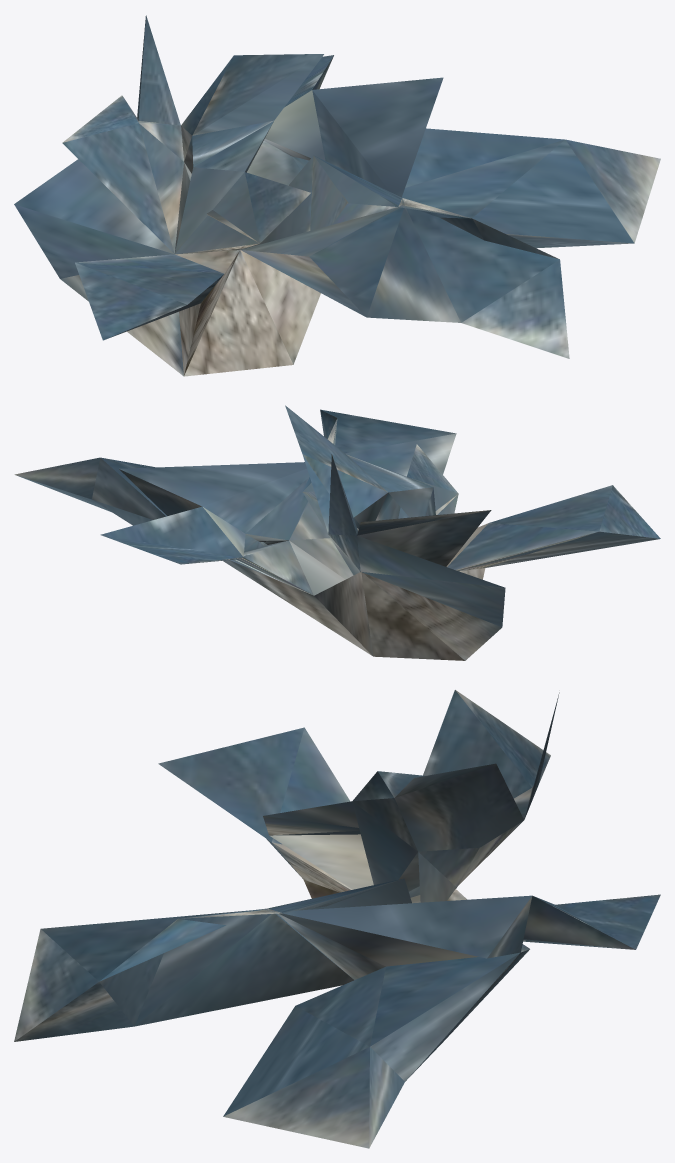
File: fc_low_cushionplant_lod2.glb
The picture shows the model from 3 angles, top to bottom: view 1: azimuth 30°, elevation 25°; view 2: azimuth 150°, elevation 25°; view 3: azimuth 270°, elevation 25°; orthographic projection. The views are drawn at different scales.
Visible parts, largest first — view 1: mesh; view 2: mesh; view 3: mesh.
Part boxes in pixels (box(x1,y1,x2,y2)): mesh: box(14, 15, 660, 376); mesh: box(14, 405, 660, 660); mesh: box(14, 690, 660, 1148).
Bounding box in the file's own units: 1.73 × 0.738 × 1.33.
Materials: 1 (1 with a texture image).
